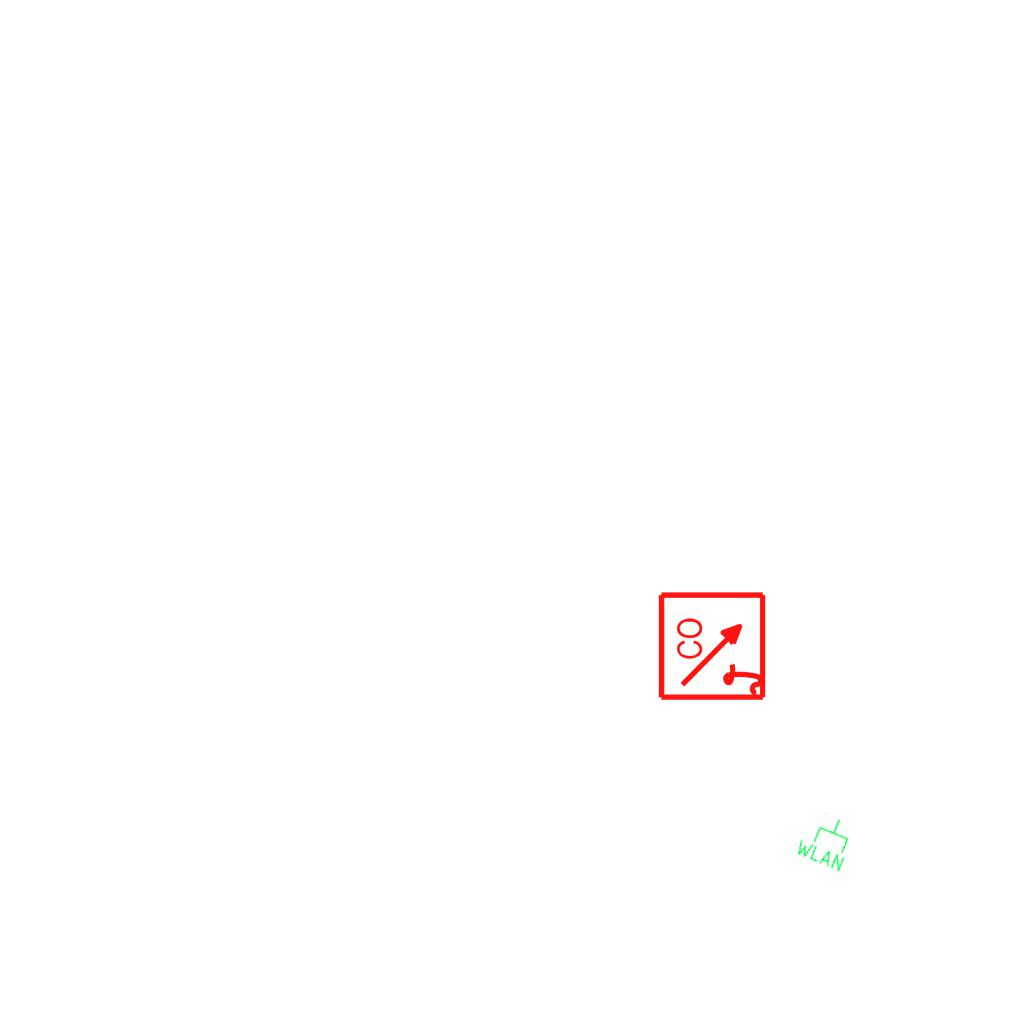ROA_Rauchmelder_optisch_mit_Signalgeber_(Sockelsirene): (657, 589, 770, 702)
WLAN: (792, 806, 860, 874)
